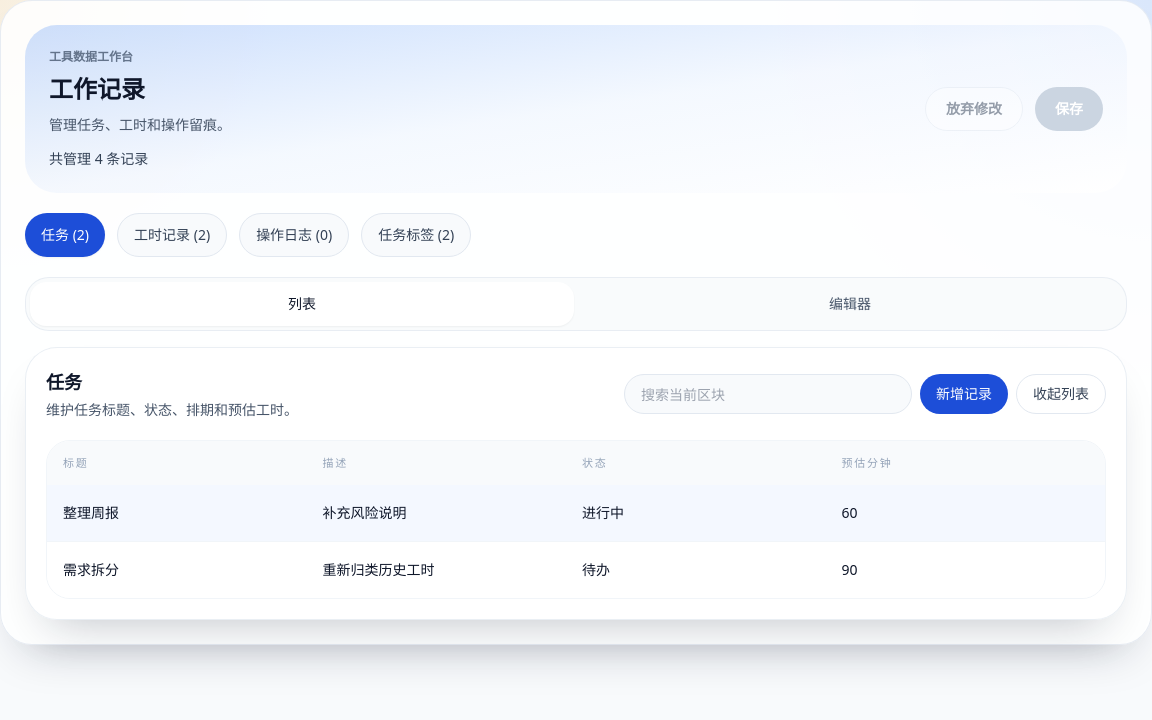
Test: ToolWorkspace › 移动端使用列表和编辑器双视图，点选记录后自动进入编辑器
Click the button "整理周报 补充风险说明 进行中 60". click: click(91, 512)
box: [47,485,1105,541]
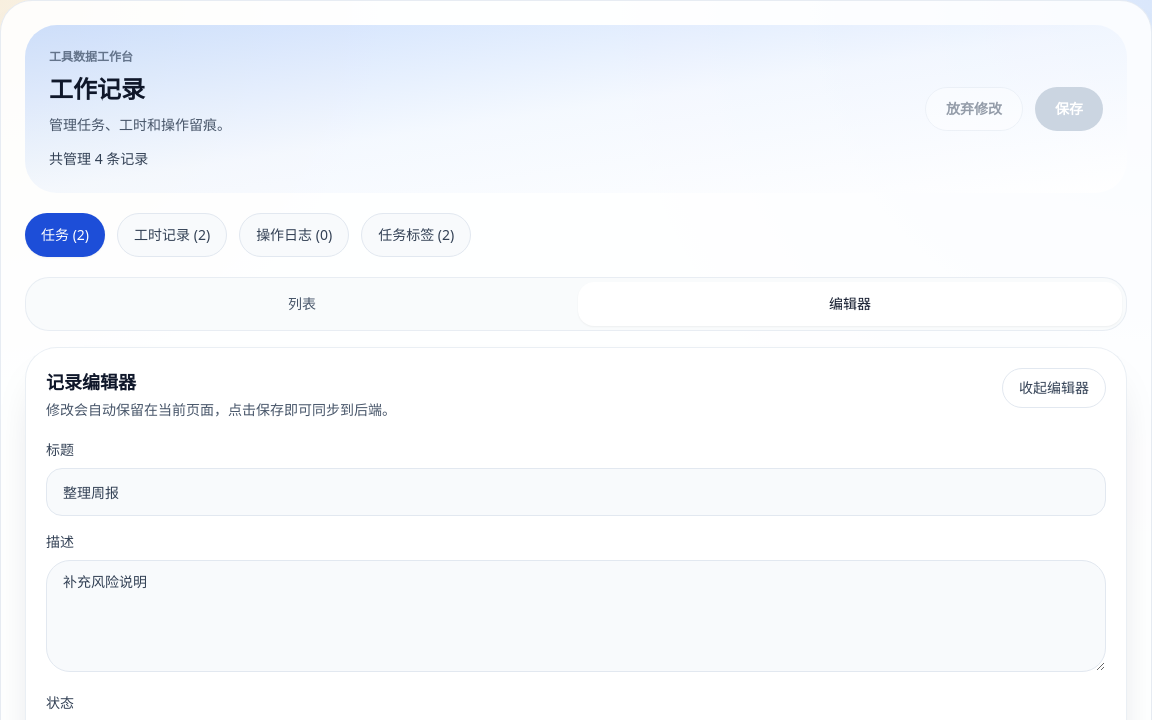
Check: the button "列表" is not pressed, box [30,282,574,326]
Check: the button "编辑器" is pressed, box [578,282,1122,326]
